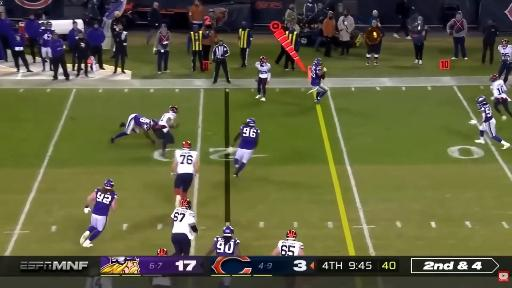Helmet: (181, 199, 191, 209), (104, 179, 114, 189), (476, 96, 486, 105), (287, 230, 296, 240), (223, 226, 233, 235), (150, 119, 158, 130), (246, 118, 255, 127), (489, 74, 499, 82), (158, 248, 167, 256), (314, 58, 322, 67), (183, 141, 191, 149), (170, 106, 178, 113), (260, 56, 267, 63), (502, 39, 508, 46)
Jersey: (172, 208, 195, 239), (92, 188, 117, 216), (175, 150, 197, 173), (239, 125, 259, 150), (214, 237, 239, 256), (278, 240, 303, 255), (159, 112, 176, 132), (491, 80, 507, 98), (478, 103, 493, 122), (134, 114, 151, 130), (40, 28, 54, 47), (86, 277, 112, 287), (311, 64, 322, 86), (256, 62, 270, 78), (498, 45, 511, 61), (152, 276, 170, 286)
Player: (80, 180, 117, 247), (475, 96, 510, 149), (172, 141, 199, 207), (229, 118, 259, 177), (172, 199, 198, 255), (111, 114, 155, 143), (154, 106, 178, 157), (206, 226, 240, 256), (490, 75, 511, 120), (308, 58, 328, 103), (272, 230, 303, 256), (272, 230, 303, 255), (39, 22, 54, 71), (255, 56, 270, 101), (498, 39, 511, 83), (86, 277, 112, 287), (151, 277, 171, 287), (158, 248, 167, 255)
